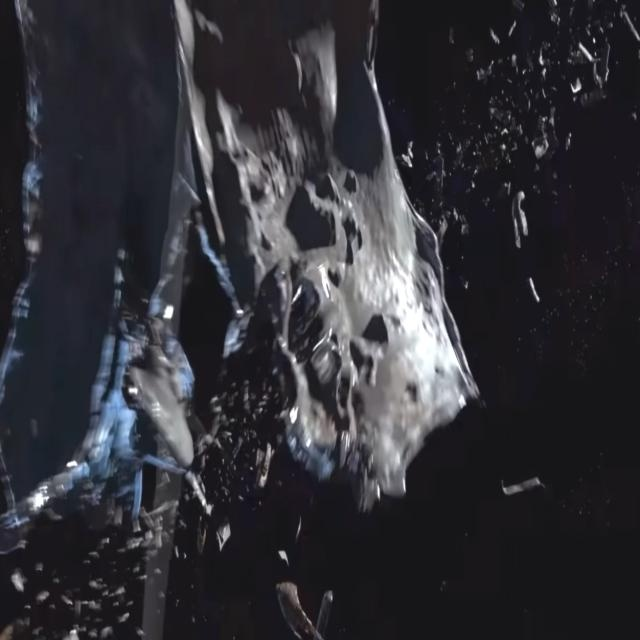large_debris: (78, 0, 492, 526), (1, 145, 73, 570), (275, 550, 341, 640), (504, 176, 543, 306), (504, 453, 540, 539), (569, 38, 616, 98), (532, 111, 555, 168), (213, 515, 234, 565)
